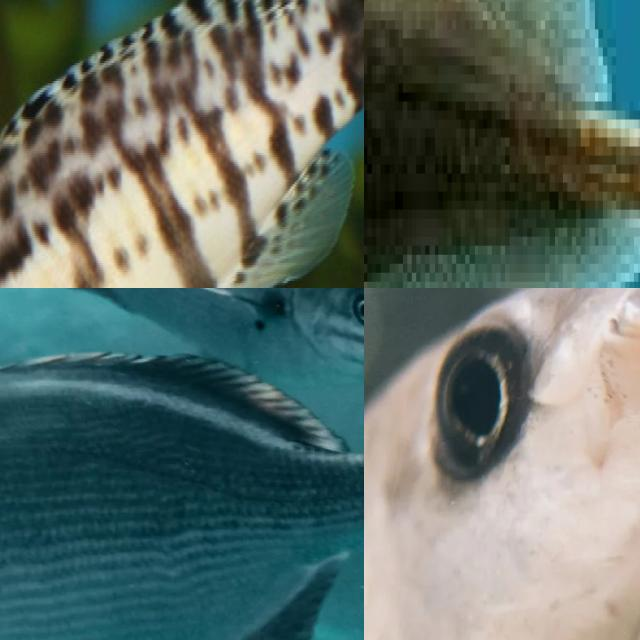fish: (0, 0, 364, 288), (364, 288, 640, 640), (364, 0, 640, 288), (0, 477, 311, 640)
